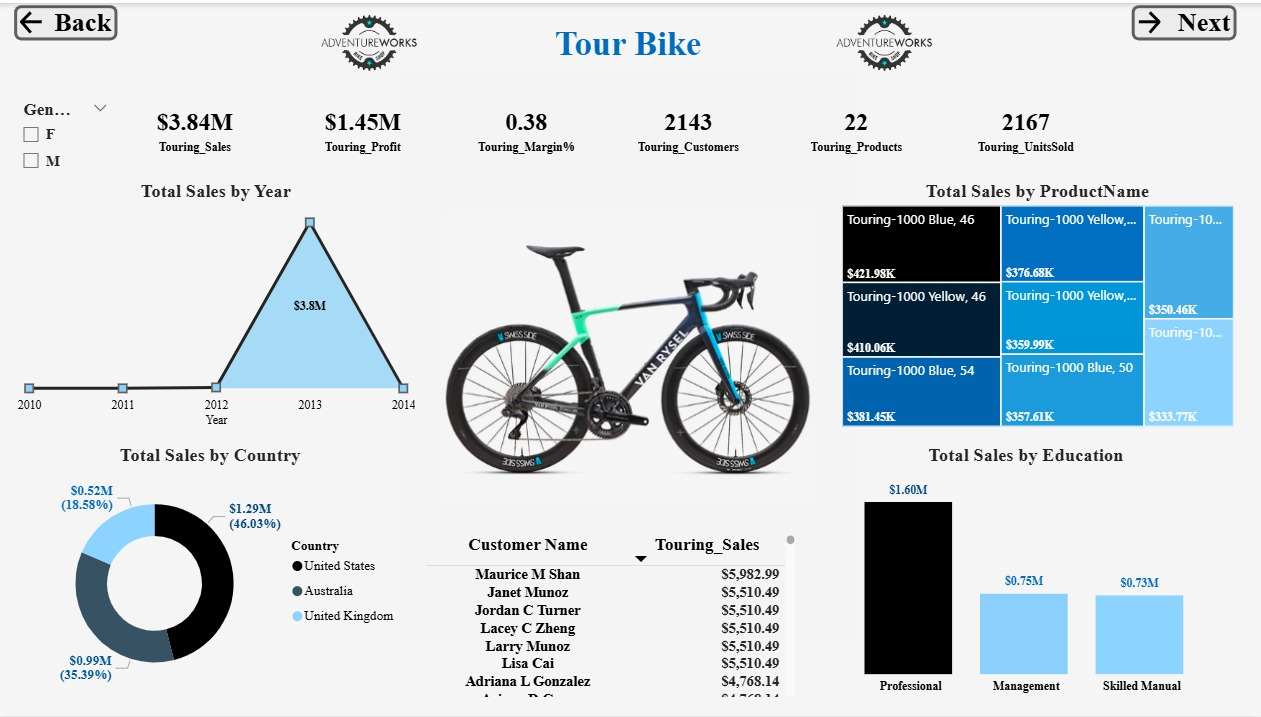

The page's visual inventory and layout, read from the dashboard file:
{"tool":"powerbi","page":{"name":"Tour","canvas":[1280,720],"ordinal":3},"visuals":[{"type":"stackedAreaChart","title":"Total Sales by Year","fields":{"Category":["Date.Date.Variation.Date Hierarchy.Year","Date.Date.Variation.Date Hierarchy.Quarter","Date.Date.Variation.Date Hierarchy.Month","Date.Date.Variation.Date Hierarchy.Day"],"Y":["Sum(Sales Data.TouringSalesColumn)"]},"box":[18.3,178.3,411.7,253.3],"z":0},{"type":"donutChart","title":"Total Sales by Country","fields":{"Category":["Territory.Country"],"Y":["Sum(Sales Data.TouringSalesColumn)"]},"box":[18.3,445,400,260],"z":1000},{"type":"treemap","title":"Total Sales by ProductName","fields":{"Group":["Product.ProductName"],"Values":["Sum(Sales Data.TouringSalesColumn)"]},"box":[851.7,178.3,405,253.3],"z":2000},{"type":"columnChart","title":"Total Sales by Education","fields":{"Category":["customer.Occupation"],"Y":["Sum(Sales Data.TouringSalesColumn)"]},"box":[826.7,445,430,260],"z":3000},{"type":"tableEx","fields":{"Values":["customer.Customer Name","Sum(Sales Data.TouringSalesColumn)"]},"box":[430,531.7,383.3,173.3],"z":4000},{"type":"card","fields":{"Values":["SubCategory.Touring_Sales"]},"box":[141.7,93.3,120,65],"z":5000},{"type":"card","fields":{"Values":["SubCategory.Touring_Profit"]},"box":[311.7,93.3,120,65],"z":6000},{"type":"card","fields":{"Values":["SubCategory.Touring_Products"]},"box":[810,93.3,120,65],"z":7000},{"type":"card","fields":{"Values":["SubCategory.Touring_Margin%"]},"box":[476.7,93.3,120,65],"z":8000},{"type":"card","fields":{"Values":["SubCategory.Touring_Customers"]},"box":[640,93.3,120,65],"z":9000},{"type":"card","fields":{"Values":["Sum(Sales Data.TouringUnitsSold)"]},"box":[981.7,93.3,120,65],"z":10000},{"type":"actionButton","box":[17.6,0,108.6,39.9],"z":11000},{"type":"actionButton","box":[1145.5,0,110.2,39.9],"z":12000},{"type":"shape","box":[458.5,11.2,362.7,59.1],"z":13000},{"type":"image","box":[311.5,11.2,134.2,59.1],"z":14000},{"type":"image","box":[837.2,11.2,123,59.1],"z":15000},{"type":"slicer","fields":{"Values":["customer.Gender"]},"box":[16.9,91.6,110,88.8],"z":16000}]}

Visuals, with their boxes in screenshot pixels (x1, y1, x2, y2), scaled from the page's 1280x720 canvas onto the 1261x717 screenshot:
"Total Sales by Year" stackedAreaChart: 18, 178, 424, 430
"Total Sales by Country" donutChart: 18, 443, 412, 702
"Total Sales by ProductName" treemap: 839, 178, 1238, 430
"Total Sales by Education" columnChart: 814, 443, 1238, 702
tableEx - customer.Customer Name x Sum(Sales Data.TouringSalesColumn): 424, 529, 801, 702
card - SubCategory.Touring_Sales: 140, 93, 258, 158
card - SubCategory.Touring_Profit: 307, 93, 425, 158
card - SubCategory.Touring_Products: 798, 93, 916, 158
card - SubCategory.Touring_Margin%: 470, 93, 588, 158
card - SubCategory.Touring_Customers: 630, 93, 749, 158
card - Sum(Sales Data.TouringUnitsSold): 967, 93, 1085, 158
actionButton: 17, 0, 124, 40
actionButton: 1128, 0, 1237, 40
shape: 452, 11, 809, 70
image: 307, 11, 439, 70
image: 825, 11, 946, 70
slicer - customer.Gender: 17, 91, 125, 180
